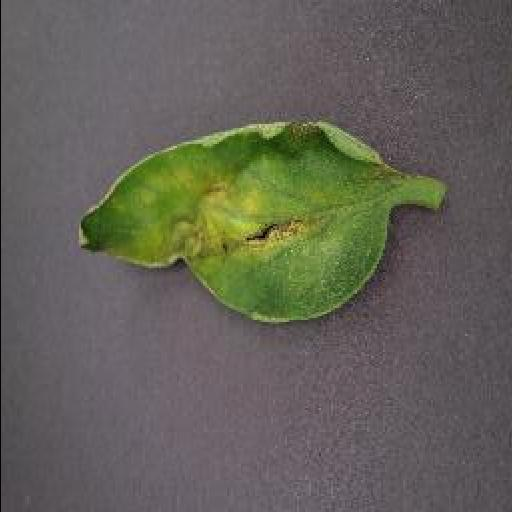disease_tomato: (74, 116, 398, 326)
